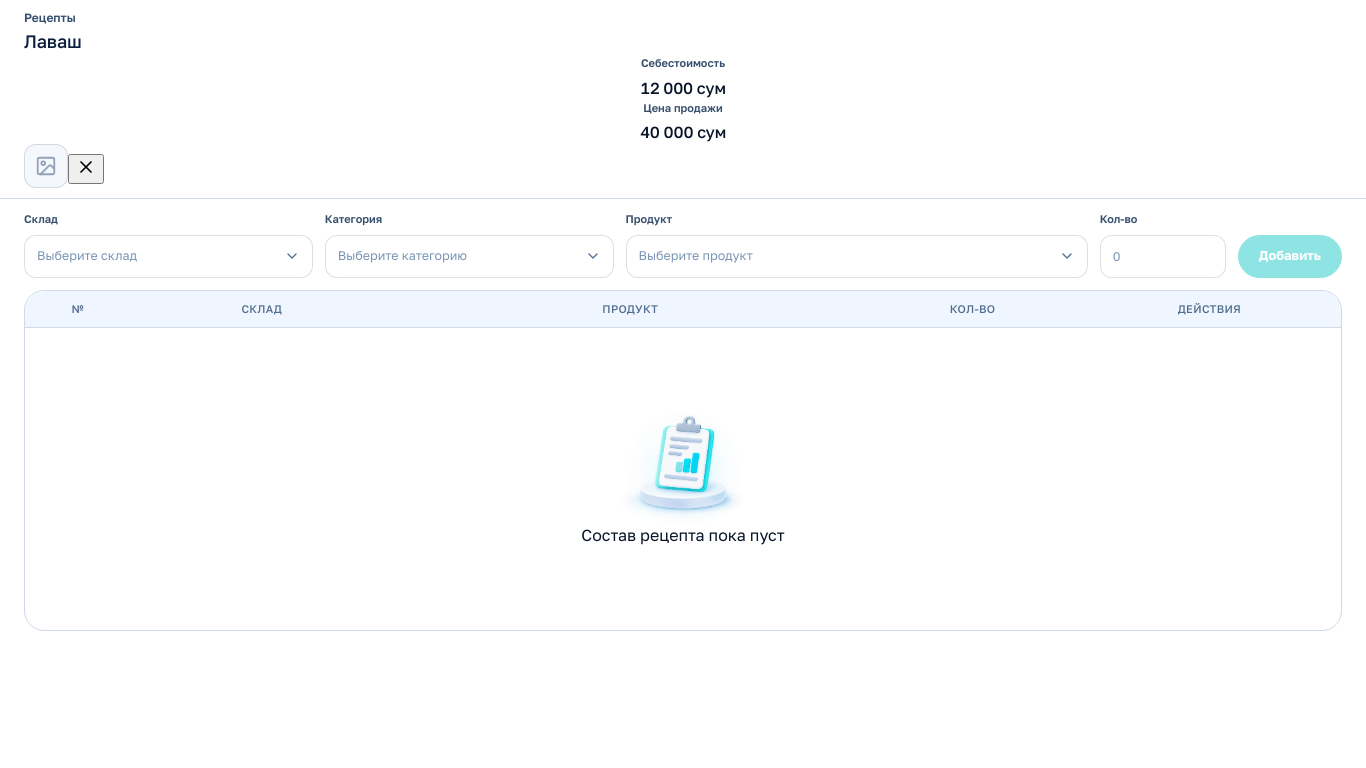
Test: Dishes recipes composition › category filter limits products to the category
Expected: the text "Состав рецепта пока пуст" is shown, [581,525,785,547]
Step 1. Click the dropdown named "Категория" → coordinates (469, 256), box [325,234,614,278]
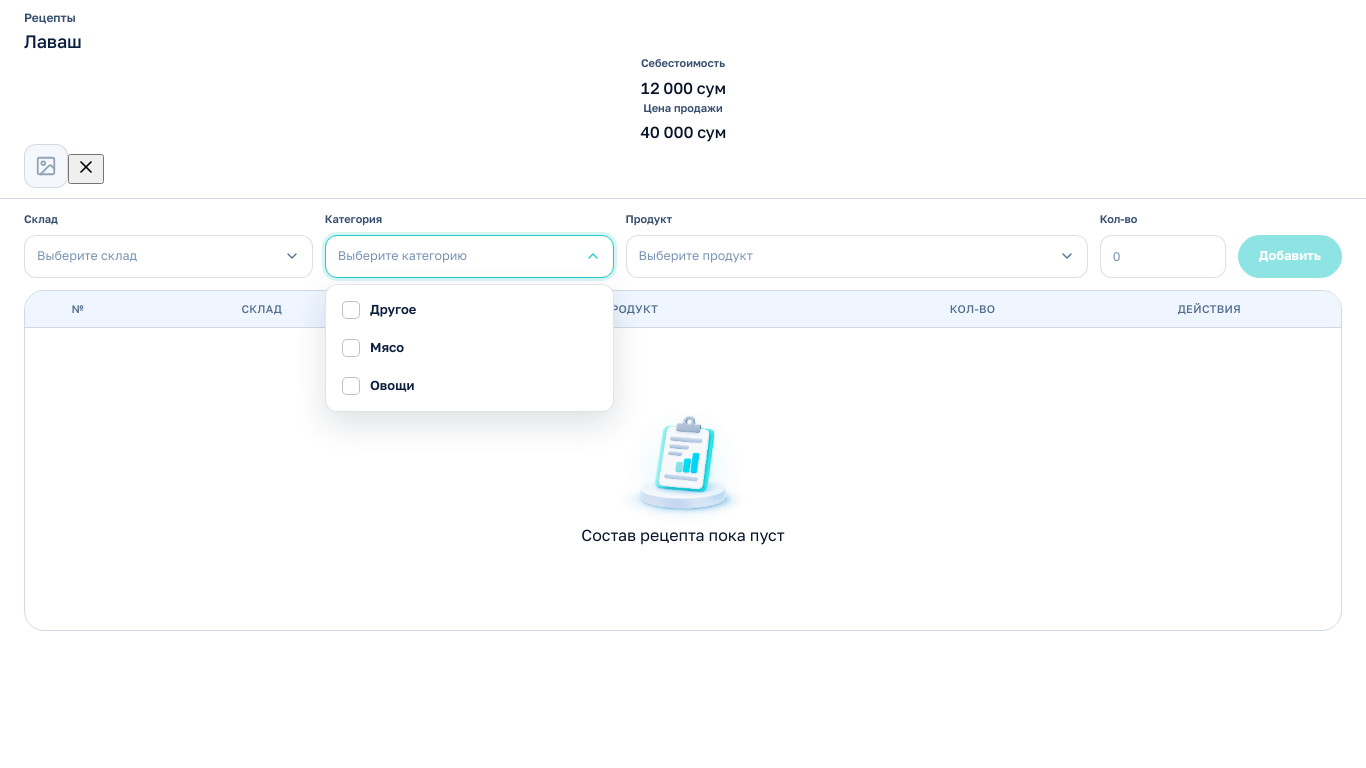
Step 2. Click the option "Овощи" → coordinates (392, 385), box [332,366,607,404]
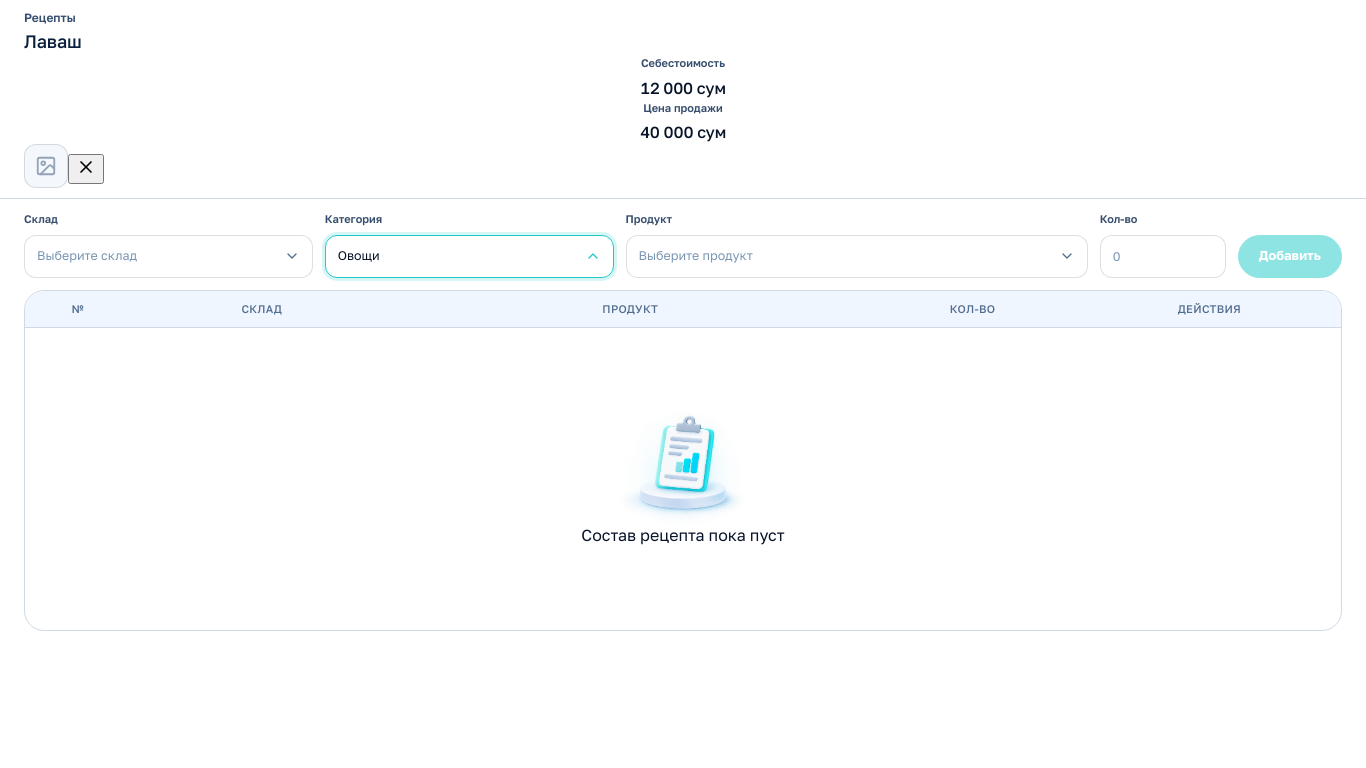
Step 3. Click the dropdown labelled "продукт" → coordinates (696, 255), box [626,234,1088,278]
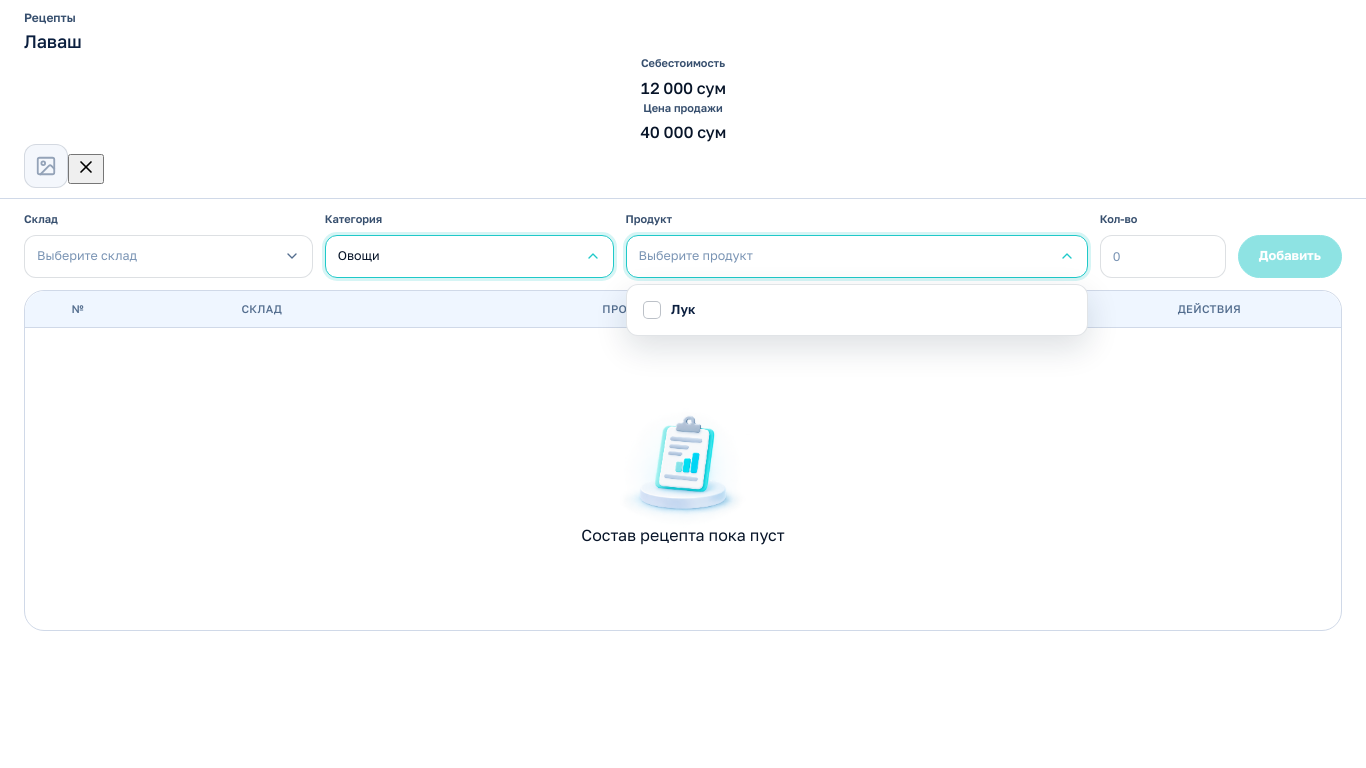
Expected: the option "Мясо" is not shown
Expected: the option "Лук" is shown, [633,290,1081,328]
